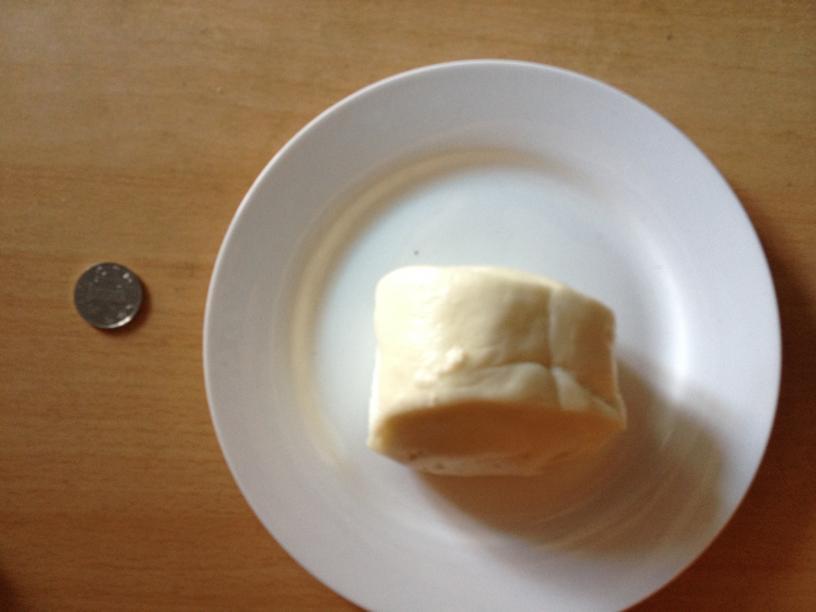bun: (367, 263, 622, 479)
coin: (70, 263, 142, 330)
